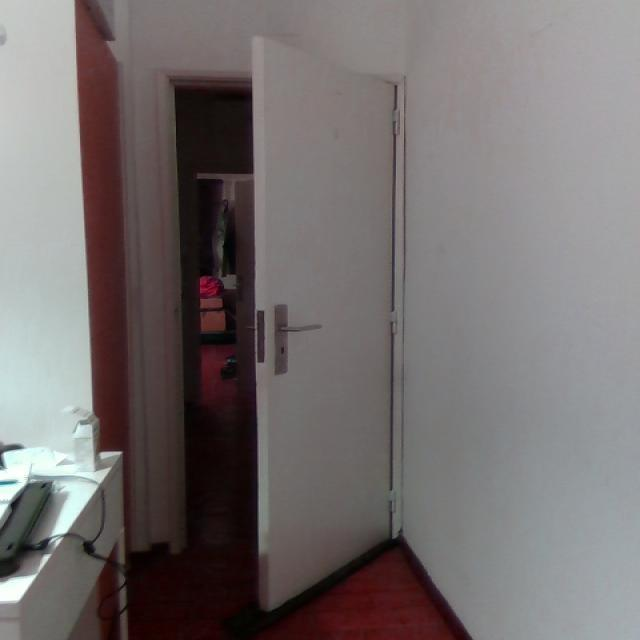door: (251, 34, 399, 612)
